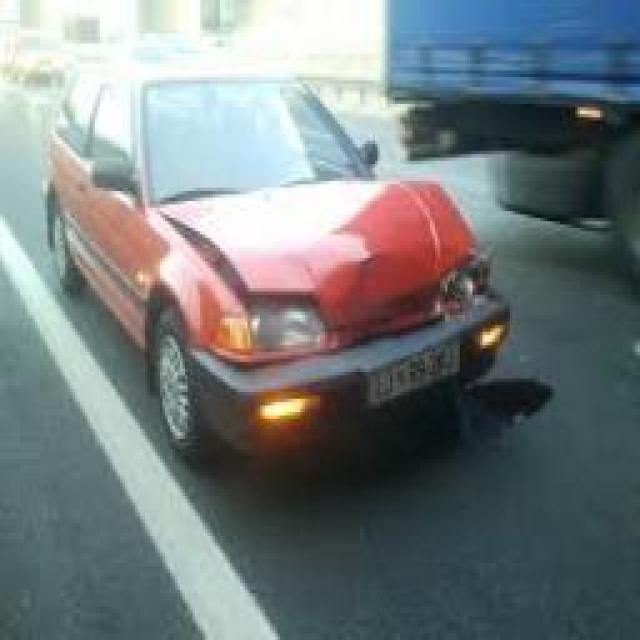rapairable: (241, 141, 431, 271)
replaceable: (434, 260, 490, 315)
